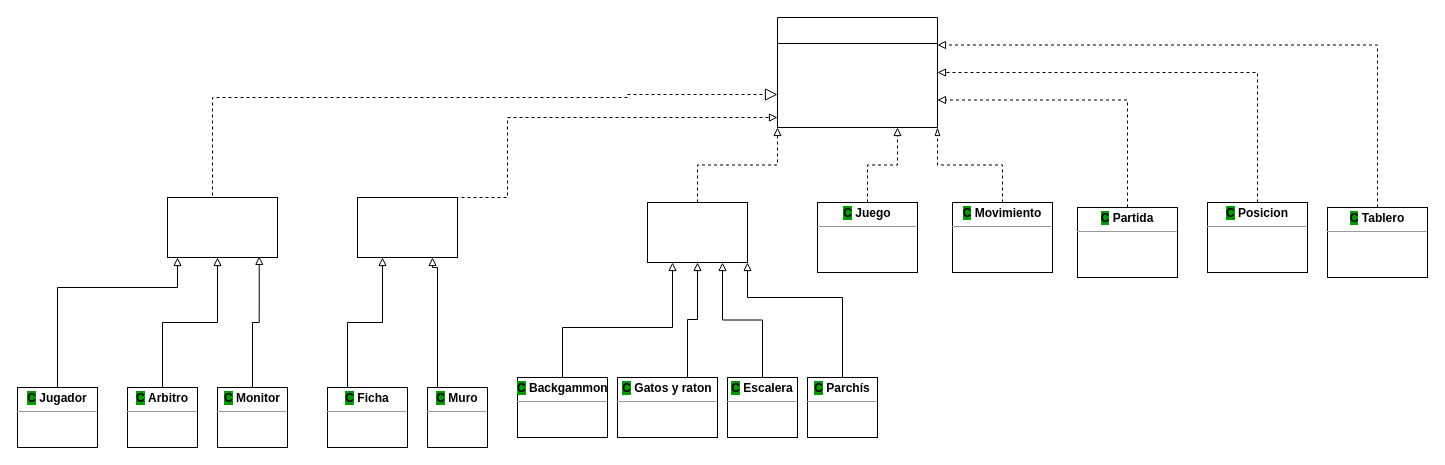
Image size: 1445x465. Some labels were removed from this diagram. Here are the shapes that lost their labels. From the top down, the centre of each, then its label:
At point (857, 72): "I Concept".
At point (222, 227): "A AgenteJuego".
At point (407, 227): "A FichaJuego".
At point (697, 232): "A InfoJuego".
